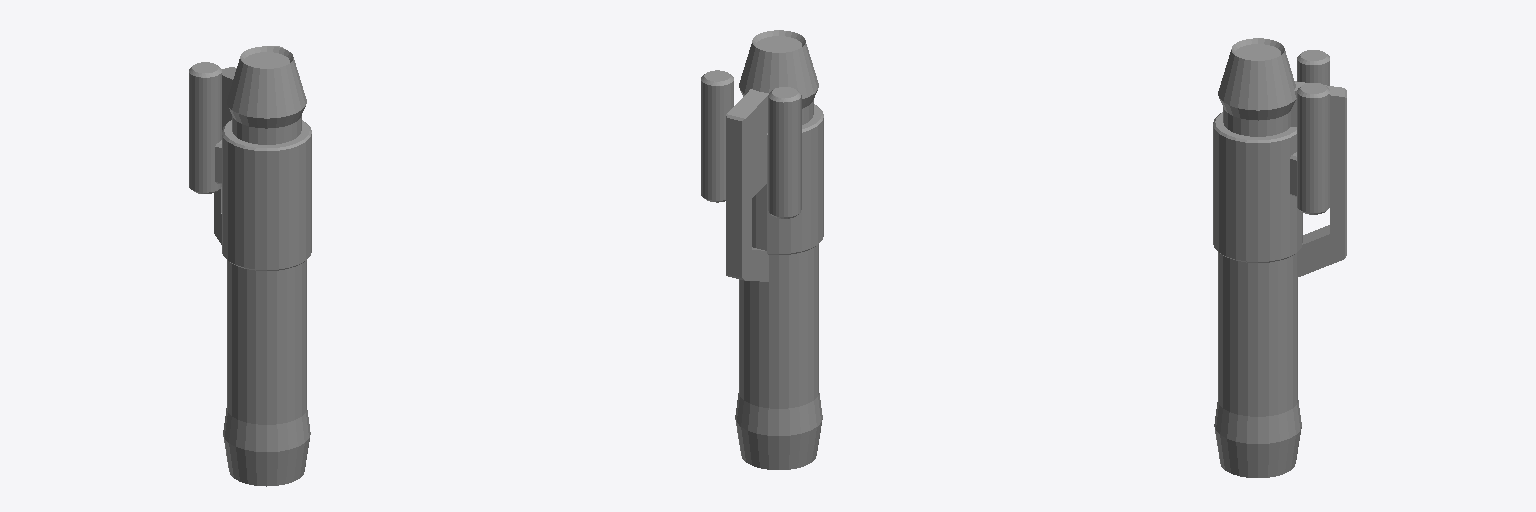
Rendered from Laser002.obj.
The picture shows the model from 3 angles: view 1: azimuth 30°, elevation 25°; view 2: azimuth 150°, elevation 25°; view 3: azimuth 270°, elevation 25°; orthographic projection.
Parts seen in each view (by area): view 1: Body8; view 2: Body8; view 3: Body8.
Boxes of the visible parts, <box> form: Body8: <box>189,46,311,486</box>; Body8: <box>701,30,823,469</box>; Body8: <box>1213,38,1346,477</box>.
Size of the model in its own units: 1.35 by 5.53 by 1.63.